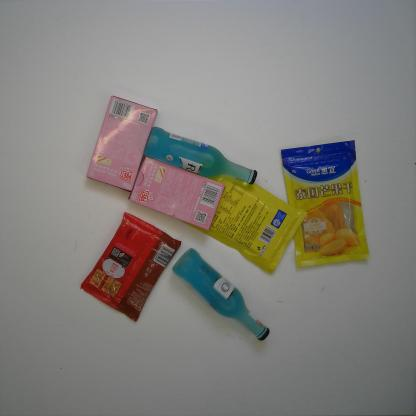Alcohol: (172, 247, 270, 343), (142, 126, 259, 187)
Dessert: (80, 212, 182, 323), (127, 156, 226, 231), (85, 96, 158, 192)
Dried Fruit: (180, 169, 309, 276), (281, 140, 370, 270)
